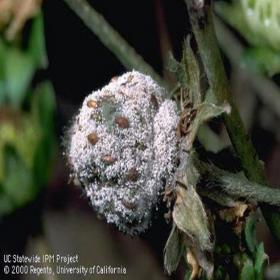Gray Mold: (63, 69, 191, 240)
